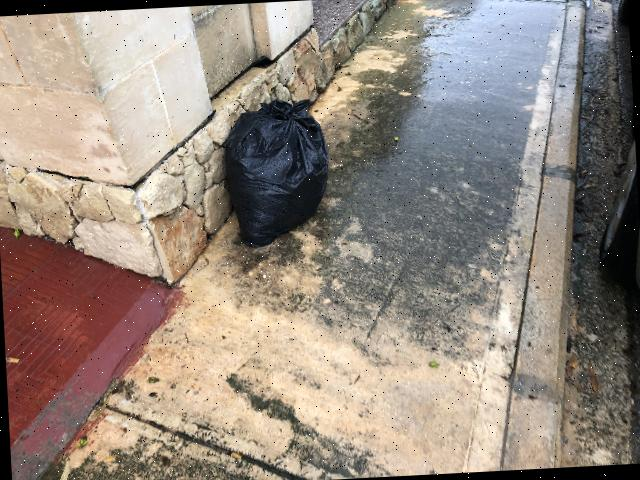Mixed -Black-: (225, 100, 328, 248)
